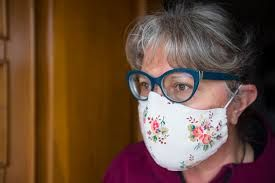with-mask: (123, 24, 261, 173)
